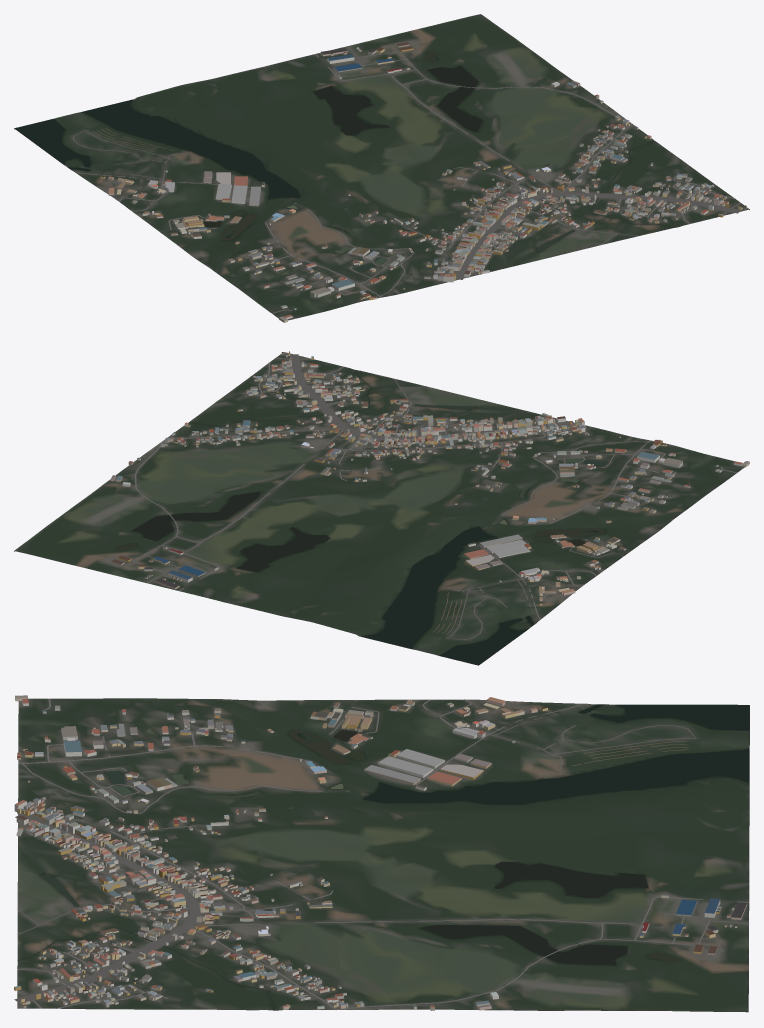
The picture shows the model from 3 angles, top to bottom: view 1: azimuth 30°, elevation 25°; view 2: azimuth 150°, elevation 25°; view 3: azimuth 270°, elevation 25°; orthographic projection. The views are drawn at different scales.
Visible parts, largest first — view 1: ground, buildings, water, roads; view 2: ground, buildings, water, roads; view 3: ground, buildings, water, roads.
Boxes of the visible parts, x1,y1,x2,y2 form: ground: [14, 14, 749, 320]; buildings: [100, 42, 746, 322]; water: [15, 51, 676, 271]; roads: [73, 46, 741, 313]; ground: [14, 352, 748, 665]; buildings: [110, 351, 749, 605]; water: [115, 370, 606, 664]; roads: [132, 354, 736, 639]; ground: [17, 698, 749, 1012]; buildings: [14, 695, 746, 1010]; water: [17, 704, 749, 1010]; roads: [14, 698, 748, 1009].
Bounding box in the file's own units: 1407 × 29.23 × 1411.
